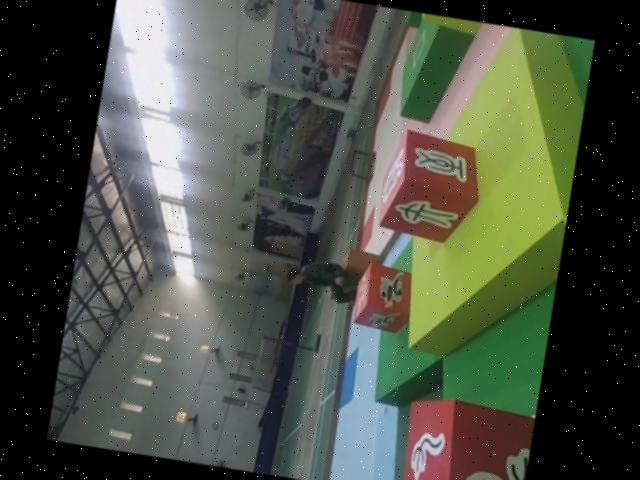R1: (352, 263, 414, 338)
R2 Fake: (371, 125, 487, 250)
R2 Real: (396, 391, 536, 480)
